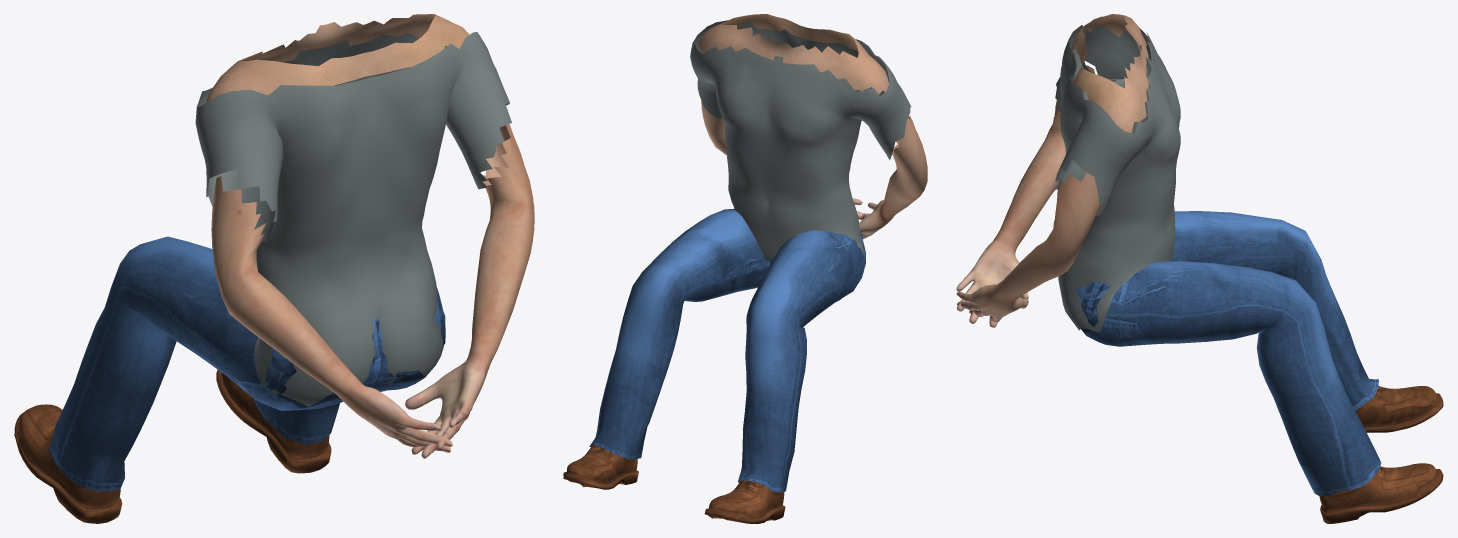
The model's file is player.glb.
3 renders of one model, left to right at view 1: azimuth 30°, elevation 25°; view 2: azimuth 150°, elevation 25°; view 3: azimuth 270°, elevation 25°, orthographic. The views are drawn at different scales.
Parts seen in each view (by area): view 1: PlayerTShirt, Body, clothing_jeans_Cloth_jeans, clothing_shoes_Cloth_shoes; view 2: clothing_jeans_Cloth_jeans, PlayerTShirt, Body, clothing_shoes_Cloth_shoes; view 3: clothing_jeans_Cloth_jeans, PlayerTShirt, Body, clothing_shoes_Cloth_shoes.
Boxes of the visible parts, left/top/right/bottom form: PlayerTShirt: left=195, top=32, right=511, bottom=406; Body: left=206, top=14, right=534, bottom=458; clothing_jeans_Cloth_jeans: left=49, top=236, right=445, bottom=491; clothing_shoes_Cloth_shoes: left=14, top=370, right=331, bottom=523; clothing_jeans_Cloth_jeans: left=589, top=209, right=865, bottom=492; PlayerTShirt: left=690, top=20, right=911, bottom=268; Body: left=696, top=14, right=927, bottom=238; clothing_shoes_Cloth_shoes: left=563, top=445, right=785, bottom=523; clothing_jeans_Cloth_jeans: left=1075, top=211, right=1381, bottom=495; PlayerTShirt: left=1055, top=16, right=1180, bottom=332; Body: left=956, top=14, right=1148, bottom=327; clothing_shoes_Cloth_shoes: left=1319, top=386, right=1443, bottom=523.
Bounding box in the file's own units: 0.5899 × 1.02 × 1.03.
Materials: 4 (3 with a texture image).
